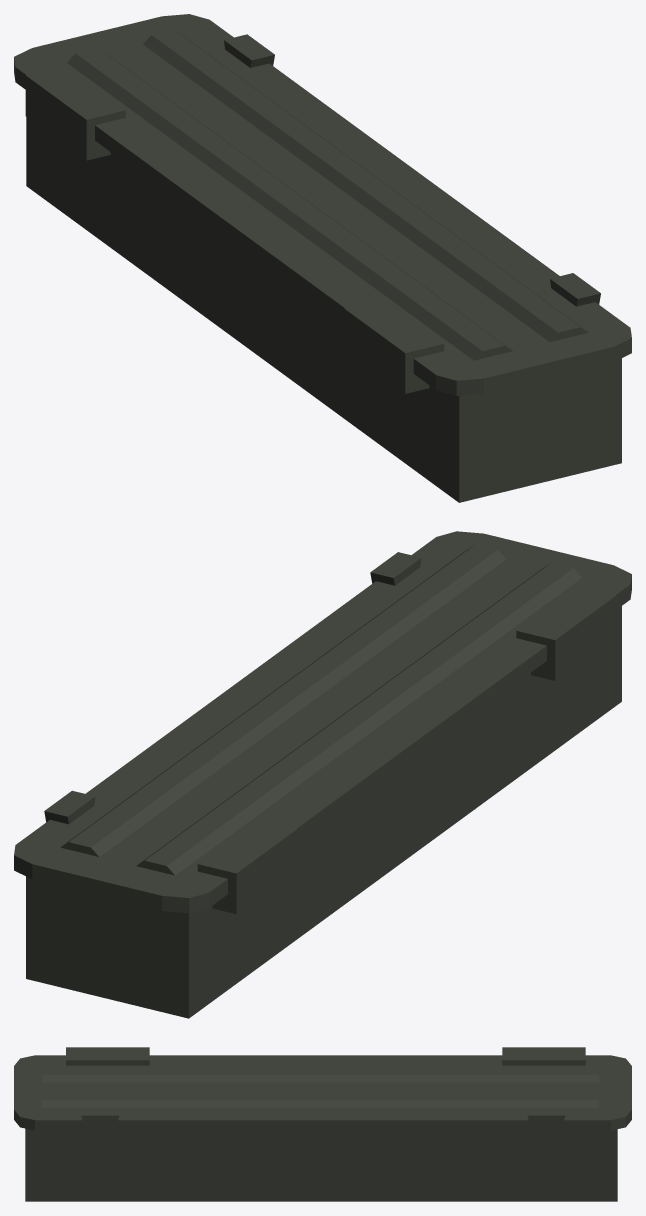
File: SM_Veh_Attach_Container_03.fbx
3 views of the same model, one above another, from view 1: azimuth 30°, elevation 25°; view 2: azimuth 150°, elevation 25°; view 3: azimuth 270°, elevation 25° (orthographic). The views are drawn at different scales.
Visible parts, largest first — view 1: SM_Veh_Attach_Container_03; view 2: SM_Veh_Attach_Container_03; view 3: SM_Veh_Attach_Container_03.
Boxes of the visible parts, box(x1,y1,x2,y2) form: SM_Veh_Attach_Container_03: box(14, 14, 631, 502); SM_Veh_Attach_Container_03: box(14, 531, 631, 1018); SM_Veh_Attach_Container_03: box(14, 1047, 631, 1201).
Size of the model in its own units: 38.16 by 23.79 by 144.
